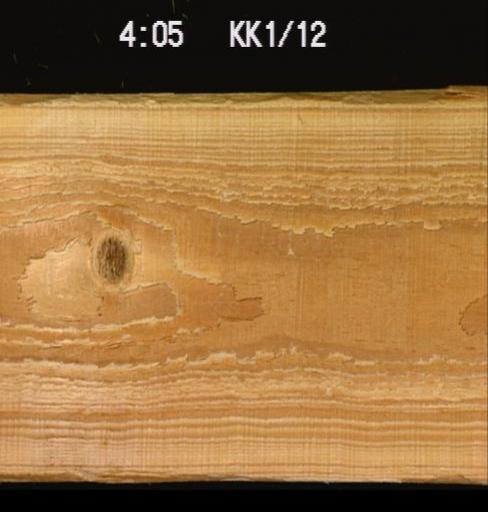sound_knot: (93, 233, 128, 283)
wave: (0, 83, 486, 104), (0, 470, 285, 483), (396, 472, 486, 484)
